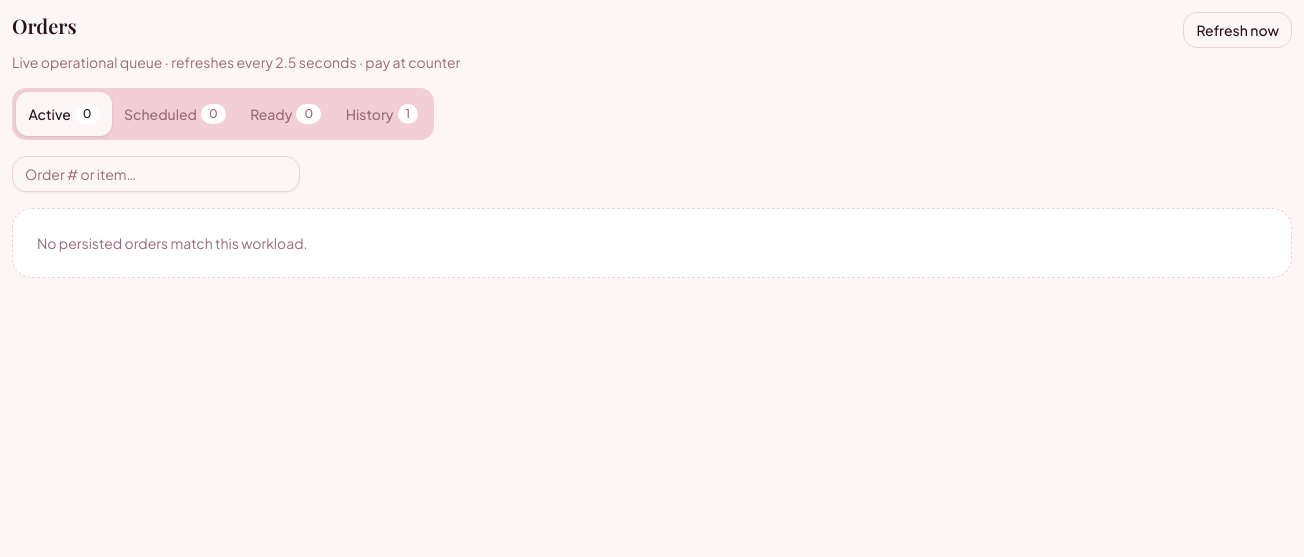
live staff order board › shows no mutation controls for terminal states
Step 1. Click the tab "History 1" → (382, 114), box top-left (334, 92), bottom-right (430, 136)
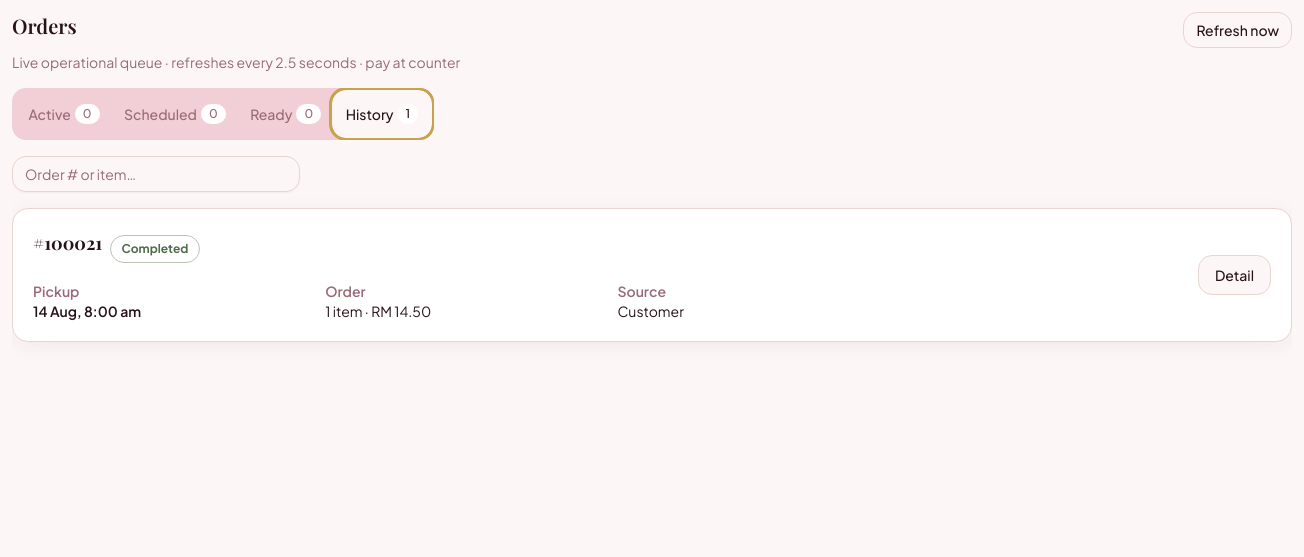
Step 2. Click the button "Detail" → (1234, 275), box top-left (1198, 255), bottom-right (1271, 295)
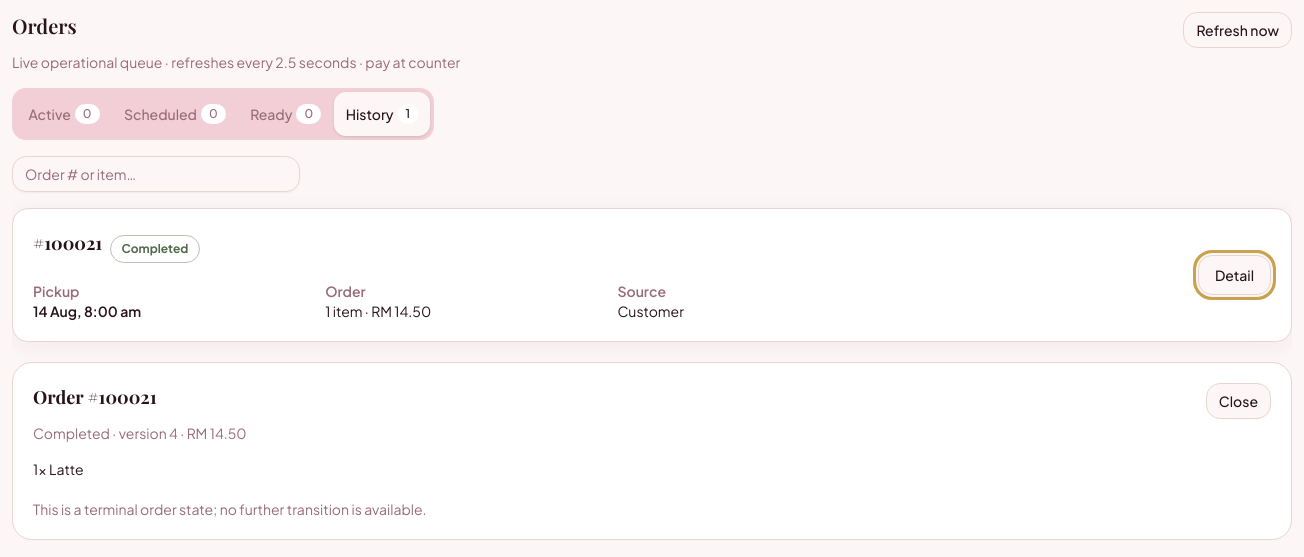
expect the text "terminal order state" is shown: met, box top-left (33, 500), bottom-right (427, 518)
